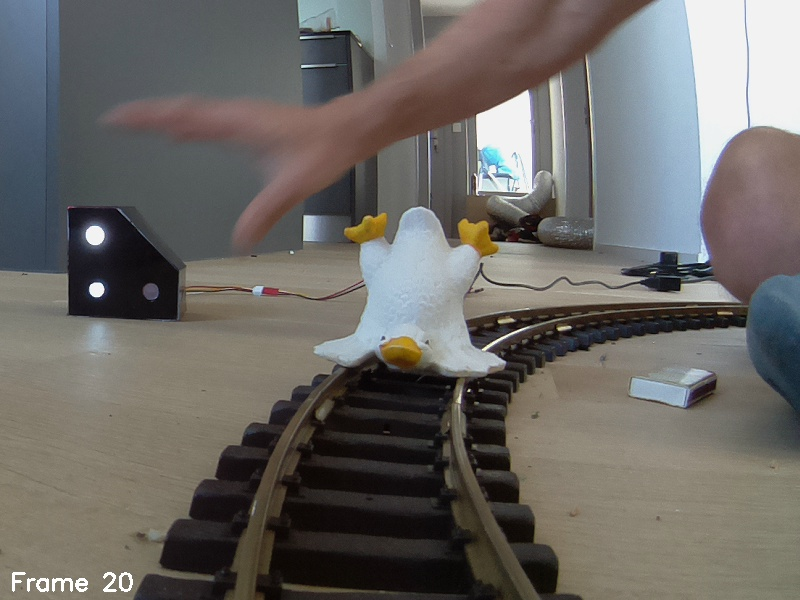Ente: (310, 203, 510, 397)
Fahrt: (62, 202, 187, 327)
